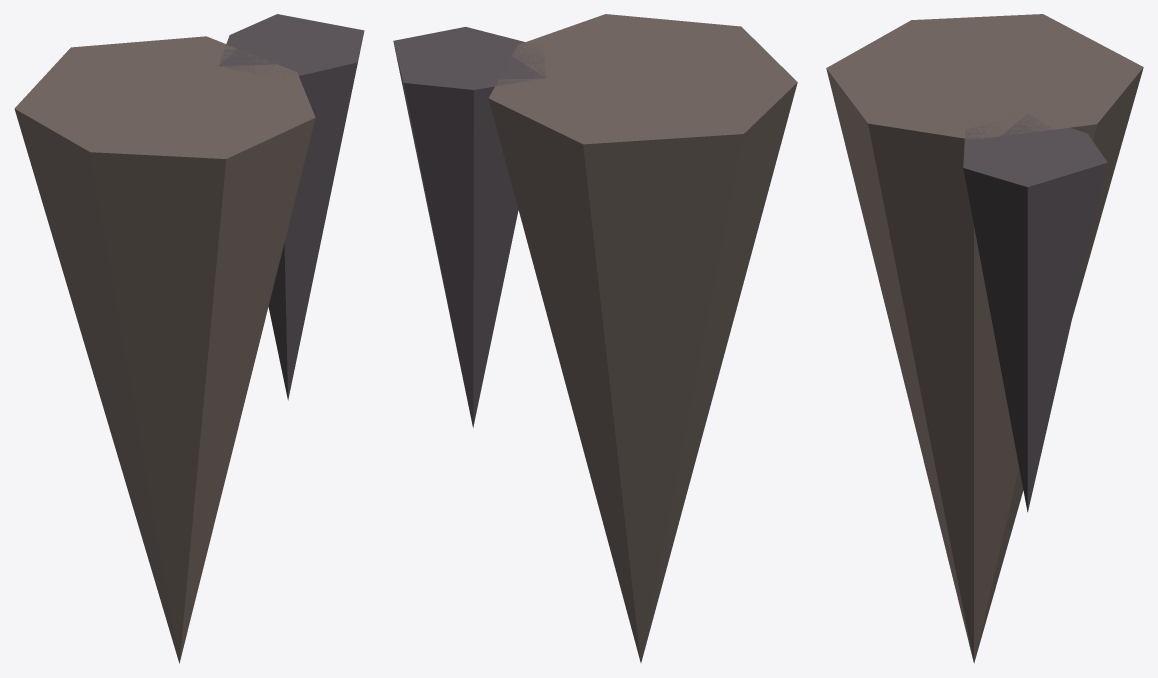
The model's file is stalactite_a.fbx.
The picture shows the model from 3 angles, left to right: view 1: azimuth 30°, elevation 25°; view 2: azimuth 150°, elevation 25°; view 3: azimuth 270°, elevation 25°; orthographic projection. The views are drawn at different scales.
Parts seen in each view (by area): view 1: stalactite_a; view 2: stalactite_a; view 3: stalactite_a.
Part boxes in pixels (<box>): stalactite_a: <box>14,14,364,663</box>; stalactite_a: <box>393,14,797,662</box>; stalactite_a: <box>826,14,1143,663</box>.
Bounding box in the file's own units: 1.53 × 2.4 × 1.18.
